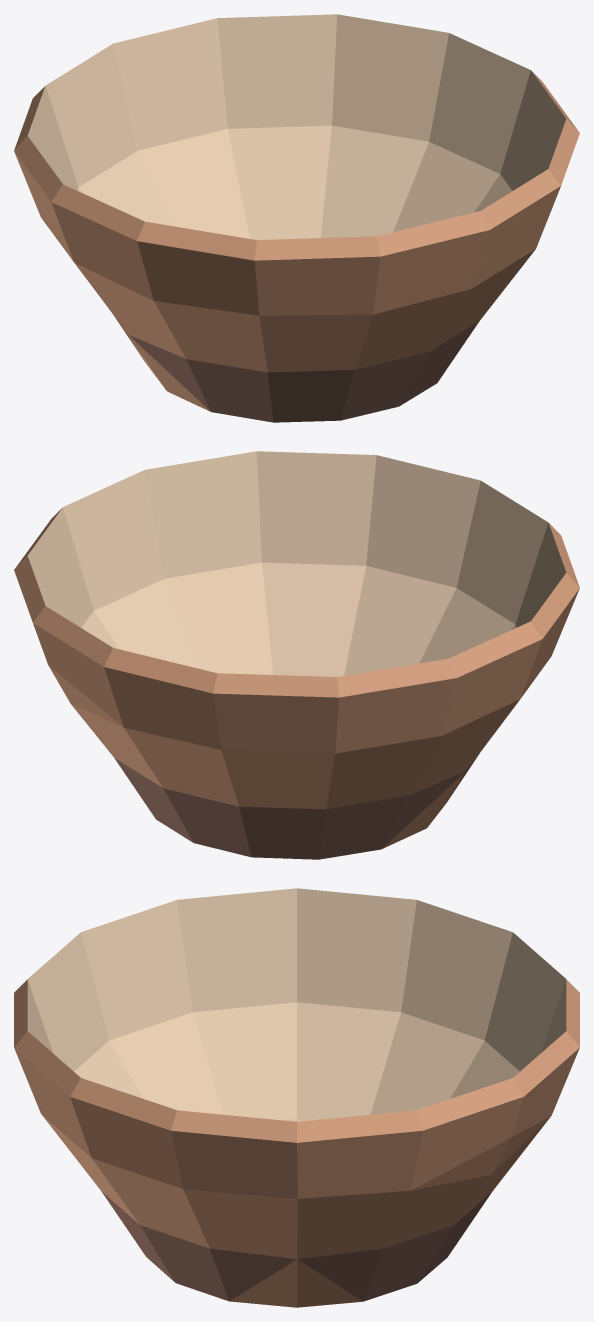
Rendered from 16-Crafting_bowl_barro.glb.
The picture shows the model from 3 angles, top to bottom: view 1: azimuth 30°, elevation 25°; view 2: azimuth 150°, elevation 25°; view 3: azimuth 270°, elevation 25°; orthographic projection. The views are drawn at different scales.
Parts seen in each view (by area): view 1: SM_Bowl_M_Bowl_Barro_Bowl_Vidriado_Bowl_Franja; view 2: SM_Bowl_M_Bowl_Barro_Bowl_Vidriado_Bowl_Franja; view 3: SM_Bowl_M_Bowl_Barro_Bowl_Vidriado_Bowl_Franja.
Part boxes in pixels (<box>): SM_Bowl_M_Bowl_Barro_Bowl_Vidriado_Bowl_Franja: <box>14,14,579,422</box>; SM_Bowl_M_Bowl_Barro_Bowl_Vidriado_Bowl_Franja: <box>14,451,579,859</box>; SM_Bowl_M_Bowl_Barro_Bowl_Vidriado_Bowl_Franja: <box>14,888,579,1307</box>.
Size of the model in its own units: 0.208 by 0.094 by 0.2028.
